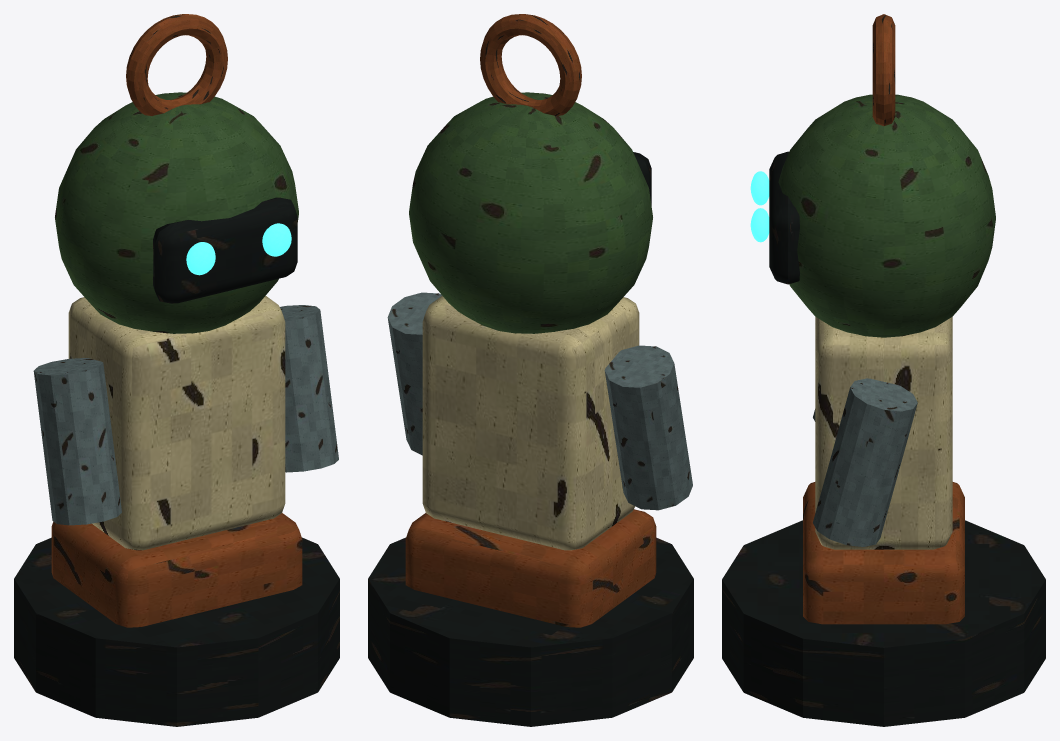
File: eq-rescueeffigy.glb
3 renders of one model, left to right at view 1: azimuth 30°, elevation 25°; view 2: azimuth 150°, elevation 25°; view 3: azimuth 270°, elevation 25°, orthographic.
Visible parts, largest first — view 1: Torso, Base, Head, Feet, Folded arm, Face, Folded arm.001, Rescue loop, Eye.001, Eye; view 2: Head, Torso, Base, Feet, Folded arm, Rescue loop, Folded arm.001; view 3: Base, Head, Torso, Feet, Folded arm.001, Face, Rescue loop, Eye, Eye.001.
Boxes of the visible parts, box(x1,y1,x2,y2) form: Torso: box(68, 295, 285, 550); Base: box(14, 537, 339, 726); Head: box(55, 92, 298, 333); Feet: box(51, 513, 302, 627); Folded arm: box(33, 358, 121, 525); Face: box(153, 197, 297, 303); Folded arm.001: box(280, 305, 338, 472); Rescue loop: box(126, 14, 227, 115); Eye.001: box(262, 223, 291, 256); Eye: box(186, 242, 215, 275); Head: box(409, 92, 652, 333); Torso: box(422, 295, 639, 550); Base: box(368, 537, 693, 726); Feet: box(405, 509, 656, 627); Folded arm: box(604, 345, 692, 510); Rescue loop: box(480, 14, 581, 115); Folded arm.001: box(387, 292, 441, 455); Base: box(722, 520, 1045, 726); Head: box(778, 94, 995, 337); Torso: box(815, 317, 952, 549); Feet: box(803, 482, 964, 624); Folded arm.001: box(813, 378, 917, 546); Face: box(769, 151, 799, 284); Rescue loop: box(872, 14, 895, 125); Eye: box(750, 171, 769, 205); Eye.001: box(750, 208, 769, 242).
Bounding box in the file's own units: 0.26 × 0.566 × 0.26.
6 materials, 6 textured.
